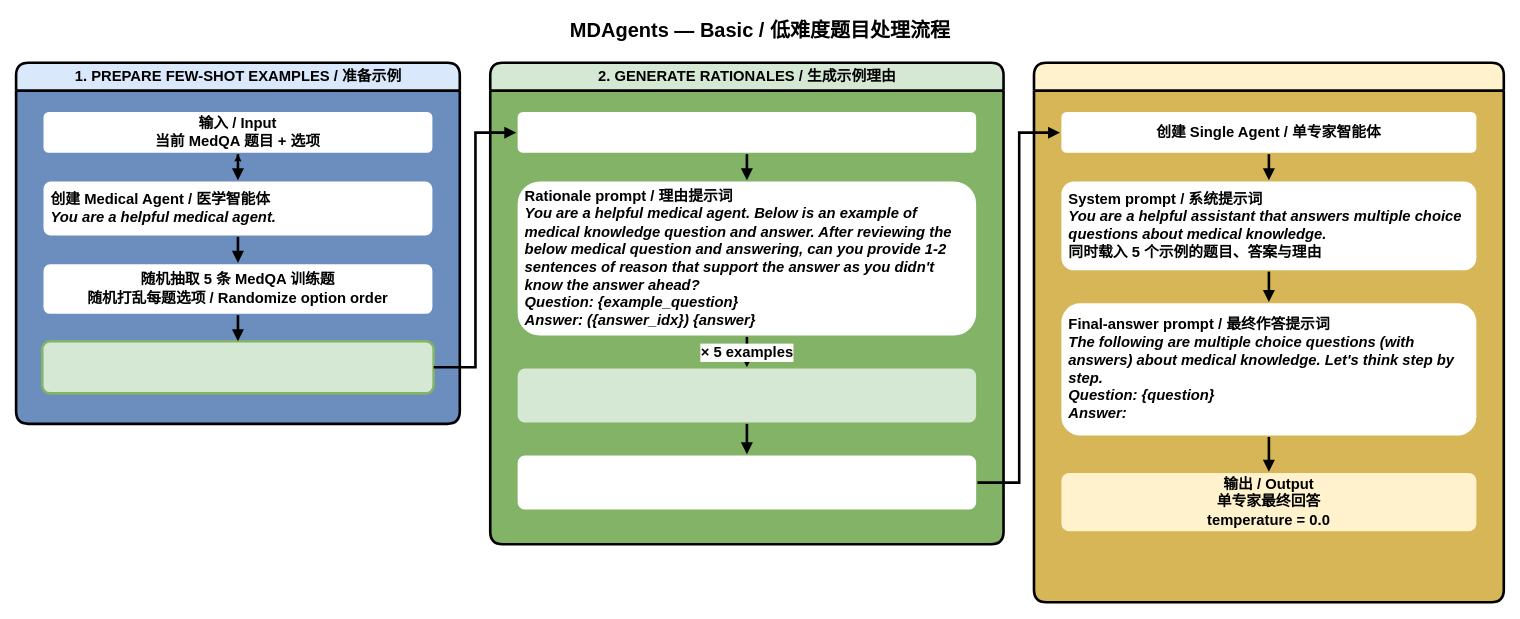
Image size: 1520x619. Some labels were removed from this diagram. The box of each missing label's shape, as (x1, y1, x2, y2) in pixels:
3. SINGLE-AGENT ANSWER / 单智能体作答: (1032, 61, 1505, 603)
准备每题已知正确答案 Answer: ({answer_idx}) {answer}: (40, 339, 435, 394)
对 5 个示例逐题调用 Medical Agent: (515, 109, 978, 155)
组合为 5-shot examples 将示例写入下一位 Agent 的 messages 历史: (515, 453, 978, 512)
输出 / Output 每题：题目 + 正确答案 + 1–2 句医学理由: (515, 366, 978, 425)
